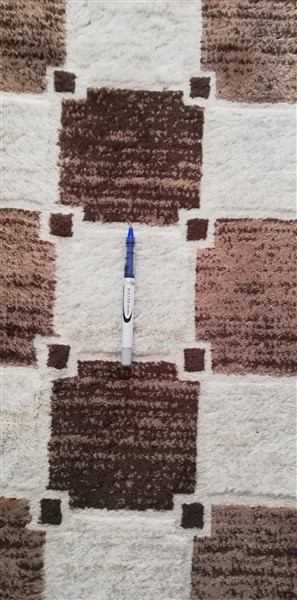pilot kalem: (114, 223, 147, 369)
